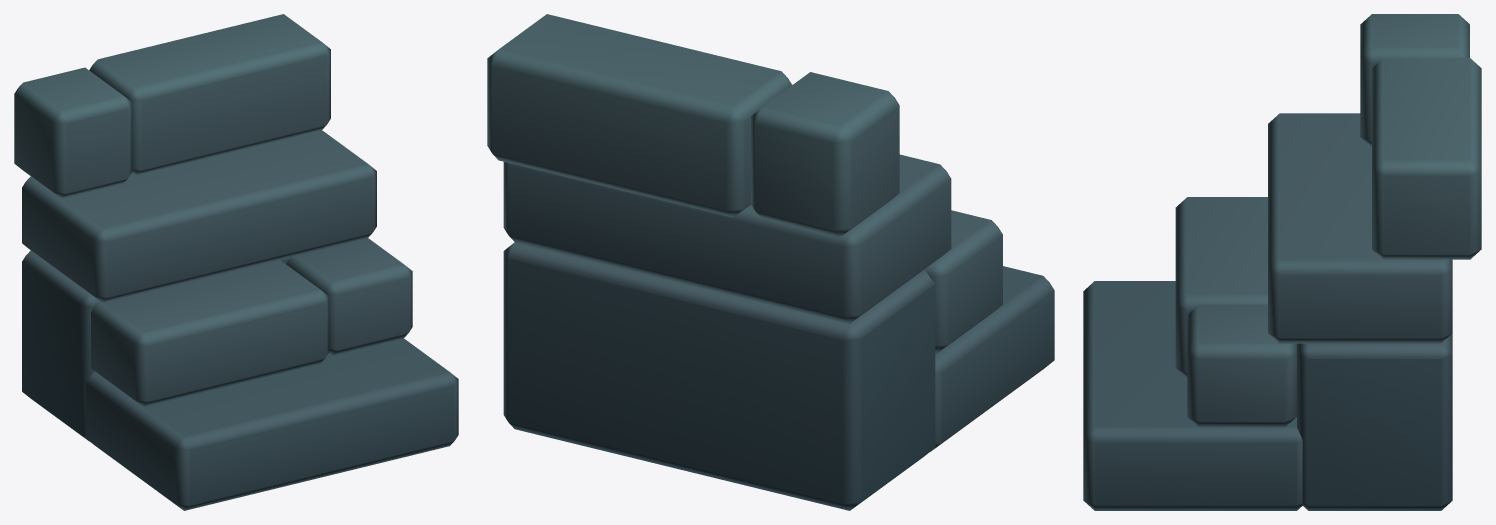
The model's file is stair_straight_2.fbx.
3 renders of one model, left to right at view 1: azimuth 30°, elevation 25°; view 2: azimuth 150°, elevation 25°; view 3: azimuth 270°, elevation 25°, orthographic. The views are drawn at different scales.
Visible parts, largest first — view 1: stair_straight_2; view 2: stair_straight_2; view 3: stair_straight_2.
Part boxes in pixels (bbox=[...]): stair_straight_2: bbox=[14, 14, 458, 510]; stair_straight_2: bbox=[487, 14, 1054, 510]; stair_straight_2: bbox=[1083, 14, 1481, 510].
Size of the model in its own units: 100 by 105 by 108.
